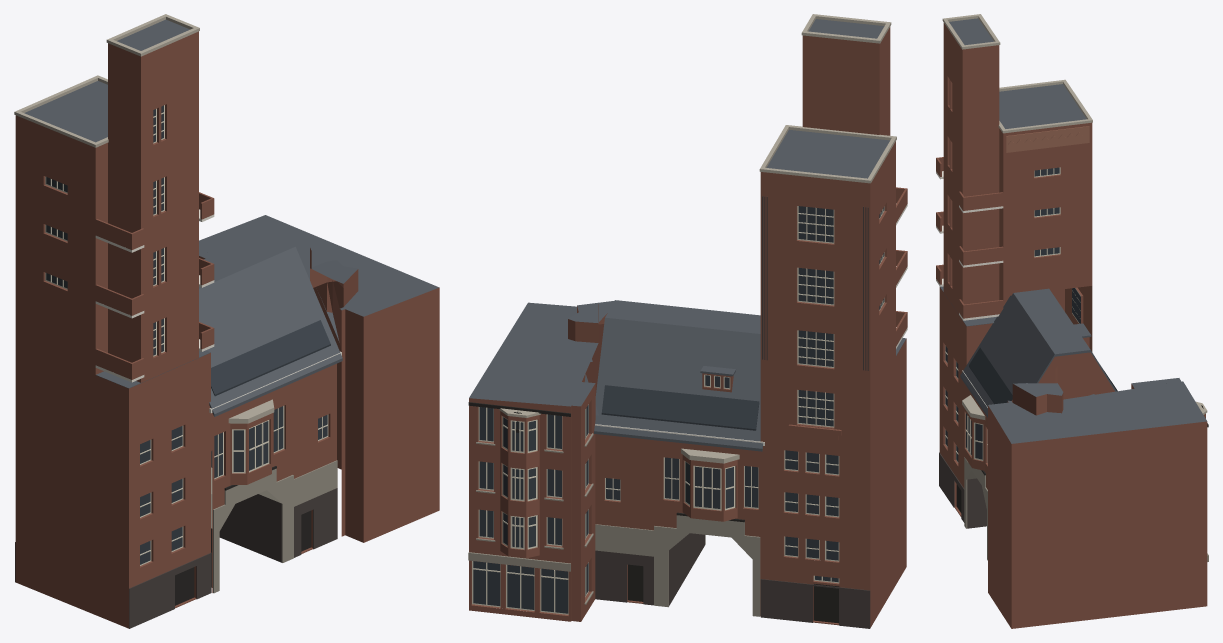
Rendered from mercatorplein-zuidtoren.glb.
3 views of the same model, side by side, from view 1: azimuth 30°, elevation 25°; view 2: azimuth 150°, elevation 25°; view 3: azimuth 270°, elevation 25° (orthographic). The views are drawn at different scales.
Parts seen in each view (by area): view 1: mercatorplein-zuidtoren; view 2: mercatorplein-zuidtoren; view 3: mercatorplein-zuidtoren.
Boxes of the visible parts, x1=… form: mercatorplein-zuidtoren: x1=14, y1=14, x2=439, y2=628; mercatorplein-zuidtoren: x1=468, y1=14, x2=907, y2=628; mercatorplein-zuidtoren: x1=936, y1=14, x2=1208, y2=628.
Bounding box in the file's own units: 25.64 × 35.58 × 18.6.
